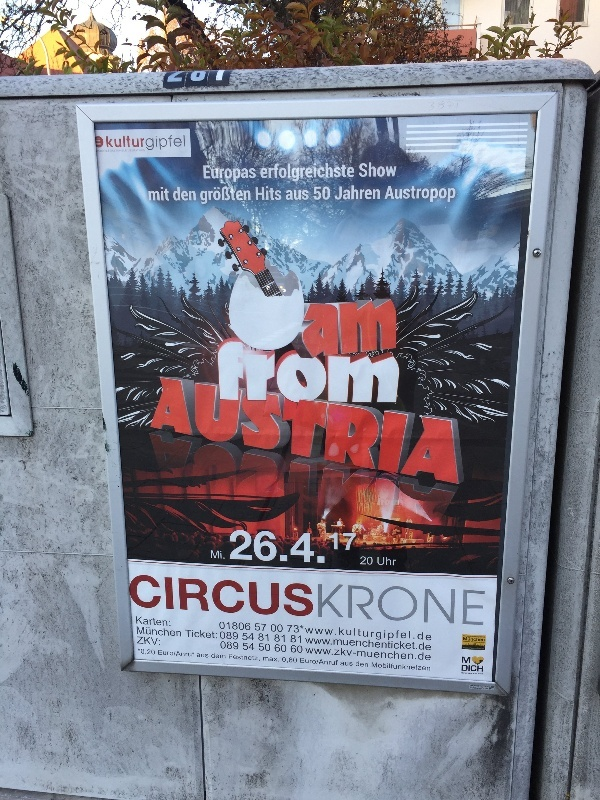text: (449, 378, 465, 489), (161, 427, 176, 541), (177, 427, 192, 541), (193, 427, 208, 541), (209, 427, 224, 541), (225, 427, 240, 541), (241, 427, 256, 541), (257, 427, 272, 541), (273, 427, 288, 541), (289, 427, 304, 541), (305, 427, 320, 541), (321, 427, 336, 541), (337, 427, 352, 541), (353, 427, 368, 541), (369, 427, 384, 541), (385, 427, 400, 541), (401, 427, 416, 541), (417, 427, 432, 541), (433, 427, 448, 541), (161, 378, 176, 489), (177, 378, 192, 489), (193, 378, 208, 489), (209, 378, 224, 489), (225, 378, 240, 489), (241, 378, 256, 489), (257, 378, 272, 489), (273, 378, 288, 489), (289, 378, 304, 489), (305, 378, 320, 489), (321, 378, 336, 489), (337, 378, 352, 489), (353, 378, 368, 489), (369, 378, 384, 489), (385, 378, 400, 489), (401, 378, 416, 489), (417, 378, 432, 489), (433, 378, 448, 489), (146, 427, 160, 541), (449, 427, 460, 541), (385, 341, 401, 404), (225, 341, 240, 404), (241, 341, 256, 404), (257, 341, 272, 404), (273, 341, 288, 404), (289, 341, 304, 404), (305, 341, 320, 404), (321, 341, 336, 404), (337, 341, 352, 404), (353, 341, 368, 404), (369, 341, 384, 404), (305, 301, 320, 359), (321, 301, 336, 359), (337, 301, 352, 359), (353, 301, 368, 359), (369, 301, 384, 359), (385, 301, 397, 359), (129, 576, 144, 620), (145, 576, 160, 620), (161, 576, 176, 620), (177, 576, 192, 620), (193, 576, 208, 620), (209, 576, 224, 620), (225, 576, 240, 620), (241, 576, 256, 620), (257, 576, 272, 620), (273, 576, 288, 620), (289, 576, 304, 620), (321, 584, 336, 628), (337, 584, 352, 628), (353, 584, 368, 628), (369, 584, 384, 628), (385, 584, 400, 628), (401, 584, 416, 628), (417, 584, 432, 628), (433, 584, 448, 628), (449, 584, 464, 628), (465, 584, 480, 628), (241, 528, 256, 564), (257, 528, 272, 564), (273, 528, 288, 564), (289, 528, 304, 564), (305, 528, 320, 564), (321, 528, 336, 564), (337, 528, 352, 564), (305, 576, 314, 620), (218, 341, 224, 404), (230, 528, 240, 564), (209, 187, 224, 206), (225, 187, 240, 206), (273, 163, 288, 181), (289, 163, 304, 181), (305, 163, 320, 181), (321, 163, 336, 181), (337, 163, 352, 181), (209, 165, 224, 182), (225, 165, 240, 182), (241, 165, 256, 182), (161, 135, 176, 151), (337, 185, 352, 201), (353, 185, 368, 201), (401, 186, 416, 202), (417, 186, 432, 202), (433, 186, 448, 202), (369, 163, 384, 178), (177, 187, 192, 202), (305, 627, 320, 642), (321, 627, 336, 642), (337, 627, 352, 642), (353, 627, 368, 642), (369, 627, 384, 642), (385, 627, 400, 642), (401, 627, 416, 642), (417, 627, 432, 642), (146, 135, 160, 151), (481, 584, 486, 628), (257, 187, 272, 201), (321, 638, 336, 652), (337, 638, 352, 652), (353, 638, 368, 652), (369, 638, 384, 652), (385, 638, 400, 652), (401, 638, 416, 652), (417, 638, 432, 652), (321, 648, 336, 662), (337, 648, 352, 662), (353, 648, 368, 662), (369, 648, 384, 662), (385, 648, 400, 662), (401, 648, 416, 662), (417, 648, 432, 662), (261, 163, 272, 181), (306, 638, 320, 652), (306, 648, 320, 662), (385, 163, 398, 178), (129, 136, 145, 148), (148, 186, 160, 202), (369, 185, 381, 201), (241, 187, 251, 206), (113, 136, 128, 148), (145, 626, 160, 638), (161, 626, 176, 638), (389, 186, 400, 202), (289, 190, 304, 201), (145, 617, 160, 628), (193, 629, 208, 639), (225, 621, 240, 631), (177, 135, 186, 151), (161, 186, 170, 202), (145, 636, 161, 645), (225, 641, 239, 651), (385, 662, 400, 671), (401, 662, 416, 671), (289, 625, 304, 634), (201, 187, 208, 206), (273, 187, 282, 201), (417, 662, 431, 671), (360, 163, 368, 178), (241, 654, 256, 662), (305, 658, 320, 666), (321, 658, 336, 666), (465, 665, 480, 673), (321, 187, 330, 200), (211, 551, 224, 560), (243, 643, 256, 652), (291, 645, 304, 654), (449, 186, 456, 202), (161, 617, 171, 628), (353, 528, 356, 564), (385, 557, 397, 566), (372, 662, 384, 671), (260, 643, 272, 652), (161, 650, 176, 657), (177, 650, 192, 657), (225, 632, 238, 640), (243, 633, 256, 641), (259, 634, 272, 642), (275, 635, 288, 643), (275, 645, 288, 653), (291, 635, 304, 643), (241, 621, 251, 631), (209, 629, 218, 639), (257, 623, 267, 632), (465, 636, 480, 642), (318, 584, 320, 628), (136, 617, 144, 628), (229, 654, 240, 662), (203, 165, 208, 182), (137, 626, 144, 638), (129, 149, 145, 154), (145, 648, 155, 656), (273, 625, 283, 633), (314, 187, 320, 200), (361, 555, 368, 566), (97, 149, 112, 154), (113, 149, 128, 154), (106, 136, 112, 148), (212, 653, 224, 659), (356, 662, 368, 668), (185, 629, 192, 639), (197, 653, 208, 659), (177, 626, 182, 638), (465, 672, 480, 676), (289, 657, 297, 664), (305, 190, 310, 201), (341, 662, 352, 667), (378, 557, 384, 566), (138, 636, 144, 645), (263, 657, 272, 663), (138, 648, 144, 656), (193, 187, 196, 202), (369, 555, 373, 566), (273, 657, 280, 663), (465, 657, 471, 664), (220, 621, 224, 631), (353, 163, 355, 181), (283, 657, 288, 664), (174, 187, 176, 202), (221, 641, 224, 651), (257, 654, 260, 662), (301, 658, 304, 666), (221, 632, 224, 640), (481, 636, 485, 642), (481, 665, 484, 673), (335, 185, 336, 201), (462, 665, 464, 673), (158, 650, 160, 657), (193, 650, 195, 657), (462, 657, 464, 664), (481, 672, 484, 676), (287, 190, 288, 201), (225, 551, 226, 560), (337, 658, 338, 666), (271, 625, 272, 633), (462, 672, 464, 676), (225, 653, 226, 659), (463, 636, 464, 642)
